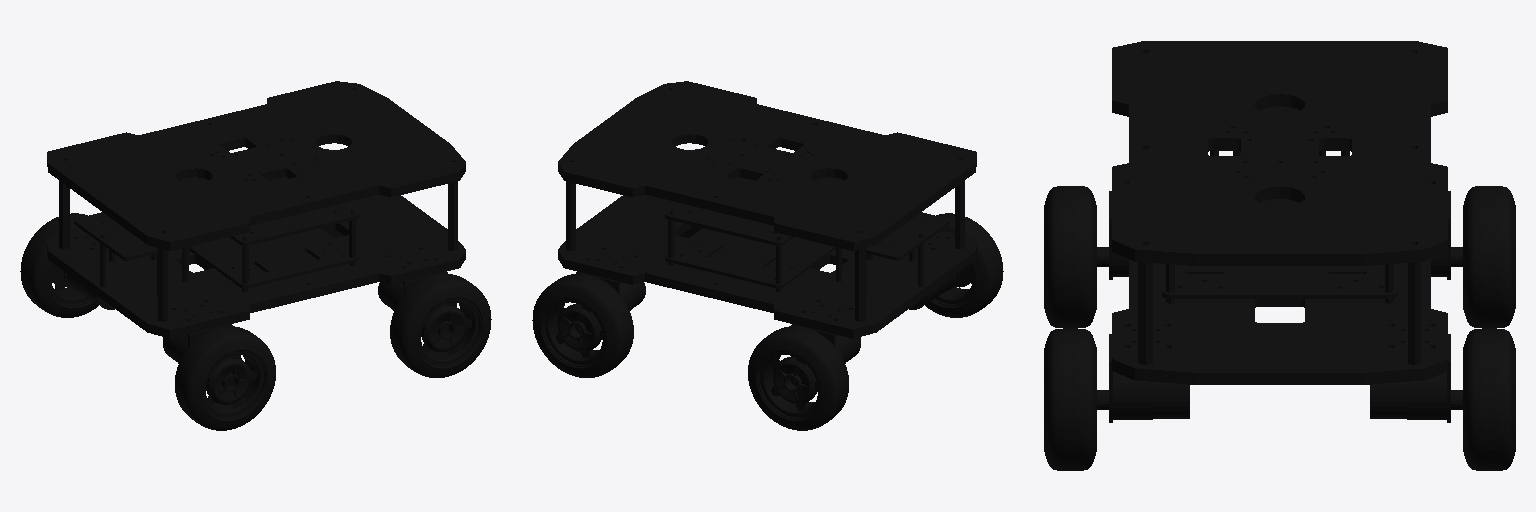
robot.urdf — pibot_description:
<robot
  name="pibot_description">
  <link
    name="base_link">
    <inertial>
      <origin
        xyz="-0.0039423 8.3391E-07 -0.0045054"
        rpy="0 0 0" />
      <mass
        value="3.2491" />
      <inertia
        ixx="0.026787"
        ixy="1.92E-08"
        ixz="0.0001887"
        iyy="0.035391"
        iyz="-5.1422E-09"
        izz="0.051695" />
    </inertial>
    <visual>
      <origin
        xyz="0 0 0"
        rpy="0 0 0" />
      <geometry>
        <mesh
          filename="package://pibot_description/meshes/hera/base_link.stl" />
      </geometry>
      <material
        name="">
        <color
          rgba="0.1 0.1 0.1 1" />
      </material>
    </visual>
    <collision>
      <origin
        xyz="0 0 0"
        rpy="0 0 0" />
      <geometry>
        <mesh
          filename="package://pibot_description/meshes/hera/base_link.stl" />
      </geometry>
    </collision>
  </link>
  <link
    name="laser_link">
    <inertial>
      <origin
        xyz="-0.0017532 9.7056E-08 0.018369"
        rpy="0 0 0" />
      <mass
        value="0.17932" />
      <inertia
        ixx="8.4489E-05"
        ixy="7.2842E-12"
        ixz="3.6373E-06"
        iyy="7.9944E-05"
        iyz="-3.7959E-10"
        izz="0.00011884" />
    </inertial>
    <visual>
      <origin
        xyz="0 0 0"
        rpy="0 0 0" />
      <geometry>
        <mesh
          filename="package://pibot_description/meshes/hera/laser_link.stl" />
      </geometry>
      <material
        name="">
        <color
          rgba="0.25 0.25 0.25 1.2" />
      </material>
    </visual>
    <collision>
      <origin
        xyz="0 0 0"
        rpy="0 0 0" />
      <geometry>
        <mesh
          filename="package://pibot_description/meshes/hera/laser_link.stl" />
      </geometry>
    </collision>
  </link>
  <joint
    name="laser_link_joint"
    type="fixed">
    <origin
      xyz="0 0 0.086"
      rpy="1.2246E-16 -6.123E-17 0" />
    <parent
      link="base_link" />
    <child
      link="laser_link" />
    <axis
      xyz="0 0 0" />
  </joint>
</robot>

--- Render facts (derived) ---
Views: 3 orthographic renders of the robot side by side, from view 1: azimuth 30°, elevation 25°; view 2: azimuth 150°, elevation 25°; view 3: azimuth 270°, elevation 25°.
Robot: pibot_description — 2 links, 1 joints (1 fixed); root link base_link; default pose: every joint at zero.
Visible links, largest first — view 1: base_link; view 2: base_link; view 3: base_link.
Link boxes in pixels (x1,y1,x2,y2): base_link: [20, 81, 491, 430]; base_link: [532, 81, 1003, 430]; base_link: [1044, 41, 1515, 470].
Size in the robot's own frame: 0.3 by 0.28 by 0.1624 metres.
1 mesh visuals loaded from 2 distinct referenced files (1 binary STL); not drawn: 1 (reference not matched to a file when rendering).